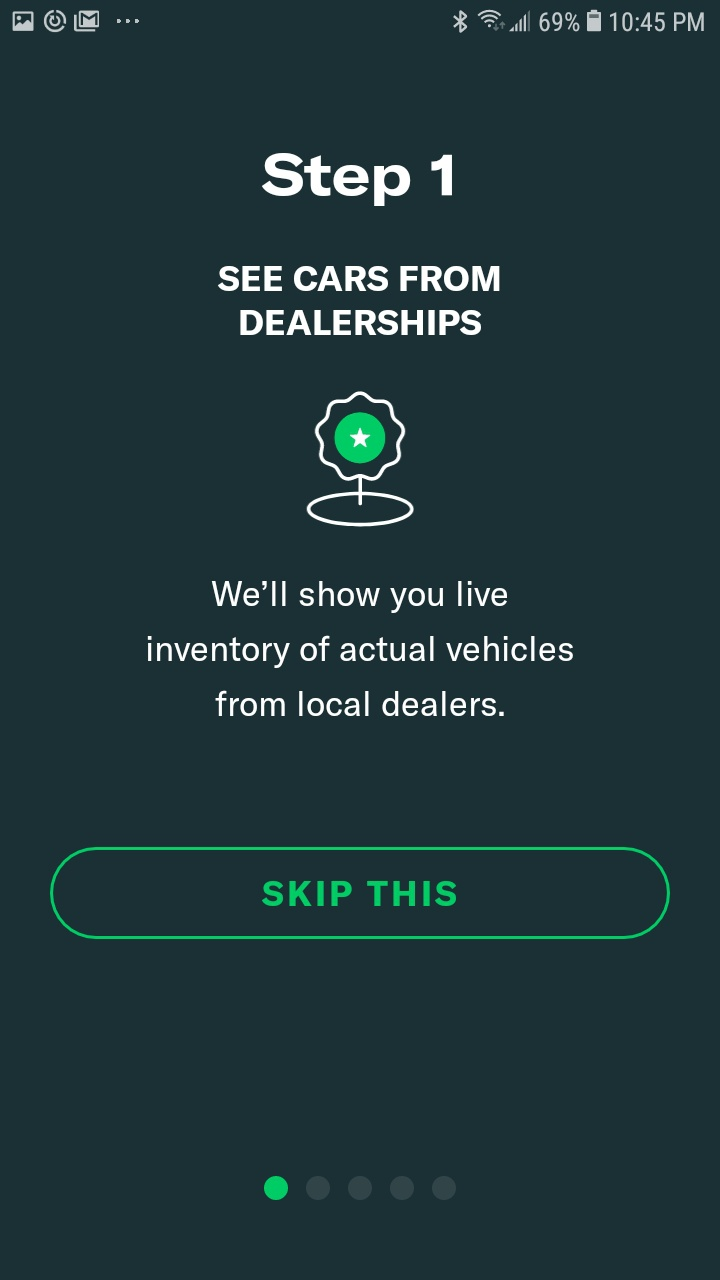Image: (306, 391, 415, 528)
PageIndicator: (263, 1175, 457, 1202)
Text: (148, 581, 574, 717), (218, 266, 501, 336), (262, 153, 453, 208)
TextButton: (50, 847, 671, 940)
UpperTaskBar: (1, 1, 720, 35)
